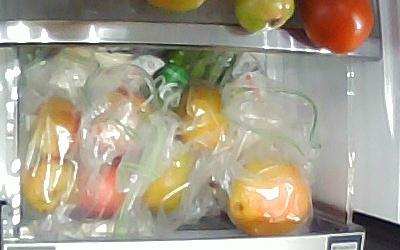apple_vinyl: (89, 85, 155, 156), (77, 156, 132, 222)
grapefruit_vinyl: (226, 154, 310, 238)
persimmon_vinyl: (173, 79, 228, 152), (140, 150, 196, 214)
prune_vinyl: (30, 99, 82, 160), (25, 158, 78, 216)
